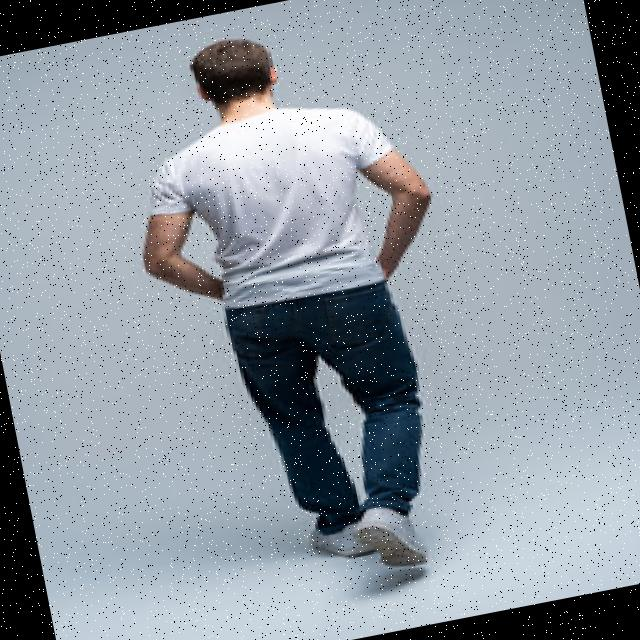Person: (104, 9, 500, 605)
